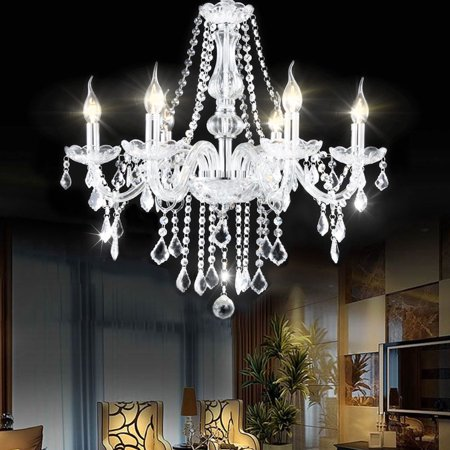chandelier: (43, 1, 397, 326)
